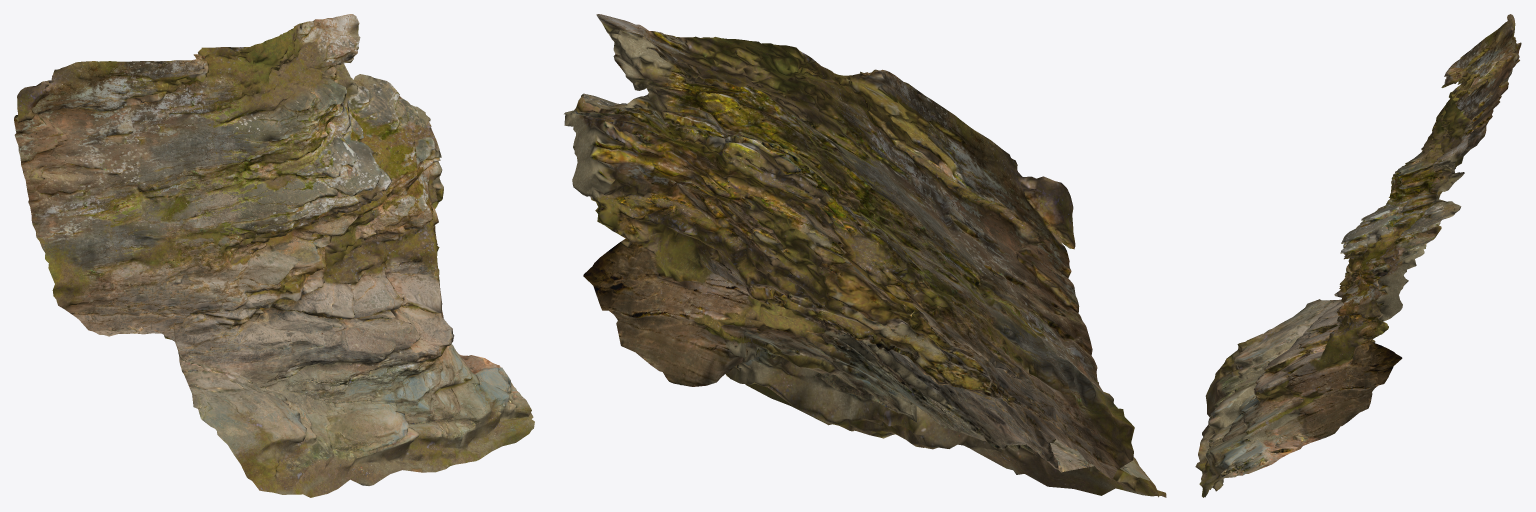
File: rock_face_02.gltf
3 renders of one model, left to right at view 1: azimuth 30°, elevation 25°; view 2: azimuth 150°, elevation 25°; view 3: azimuth 270°, elevation 25°, orthographic. The views are drawn at different scales.
Parts seen in each view (by area): view 1: rock_face_02; view 2: rock_face_02; view 3: rock_face_02.
Part boxes in pixels (box(x1,y1,x2,y2)): rock_face_02: box(14, 14, 534, 497); rock_face_02: box(564, 14, 1166, 497); rock_face_02: box(1195, 14, 1521, 497).
Size of the model in its own units: 2.71 by 2.47 by 2.13.
Materials: 1 (1 with a texture image).
